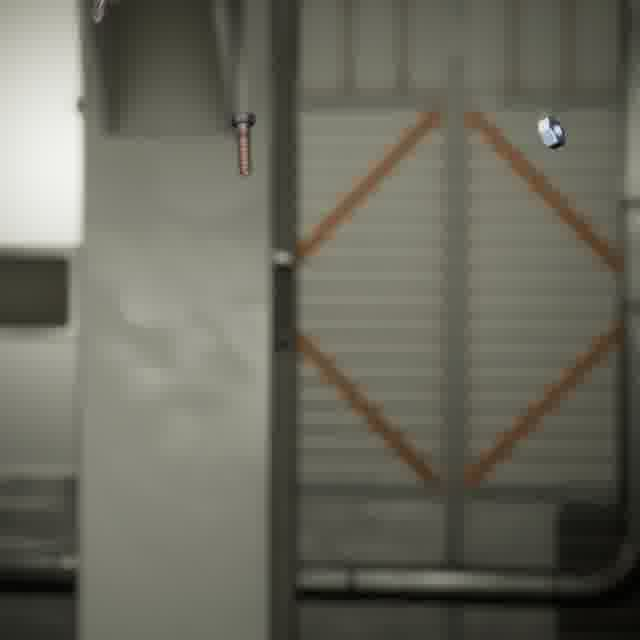bolt: (225, 107, 260, 182), (86, 0, 114, 29)
nut: (533, 112, 569, 153)
